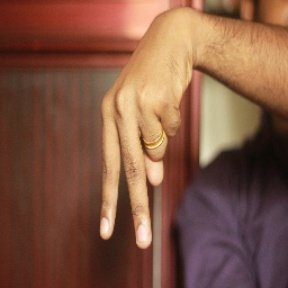Y: (94, 66, 191, 252)
